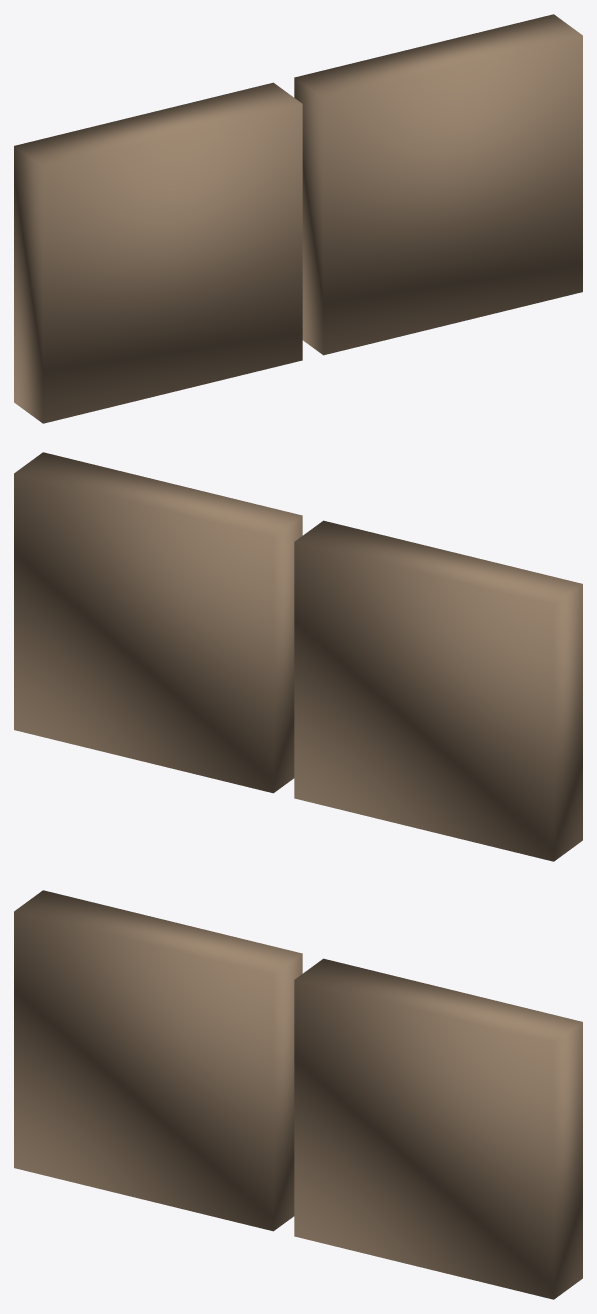
The model's file is back_bar_shelf__cluster.glb.
The picture shows the model from 3 angles, top to bottom: view 1: azimuth 30°, elevation 25°; view 2: azimuth 150°, elevation 25°; view 3: azimuth 330°, elevation 25°; orthographic projection.
Parts seen in each view (by area): view 1: world; view 2: world; view 3: world.
Boxes of the visible parts, bbox=[...] form: world: bbox=[14, 14, 582, 423]; world: bbox=[14, 452, 582, 861]; world: bbox=[14, 890, 582, 1299].
Bounding box in the file's own units: 3.74 × 1.7 × 0.35.
